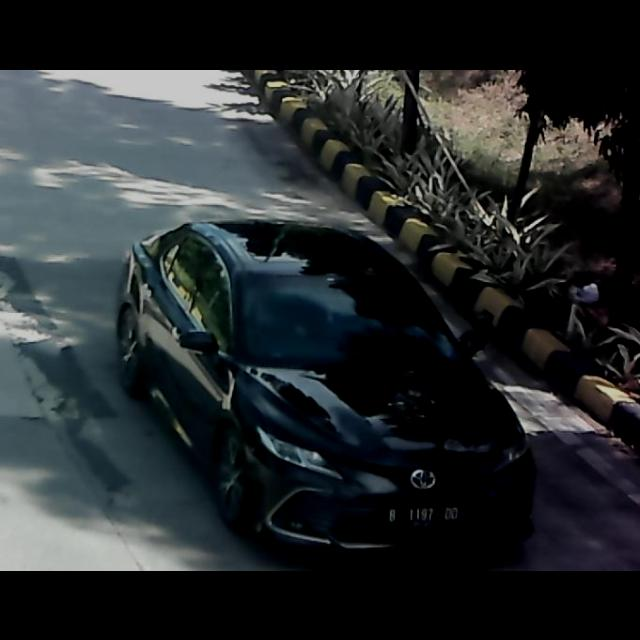plate: (380, 502, 464, 530)
